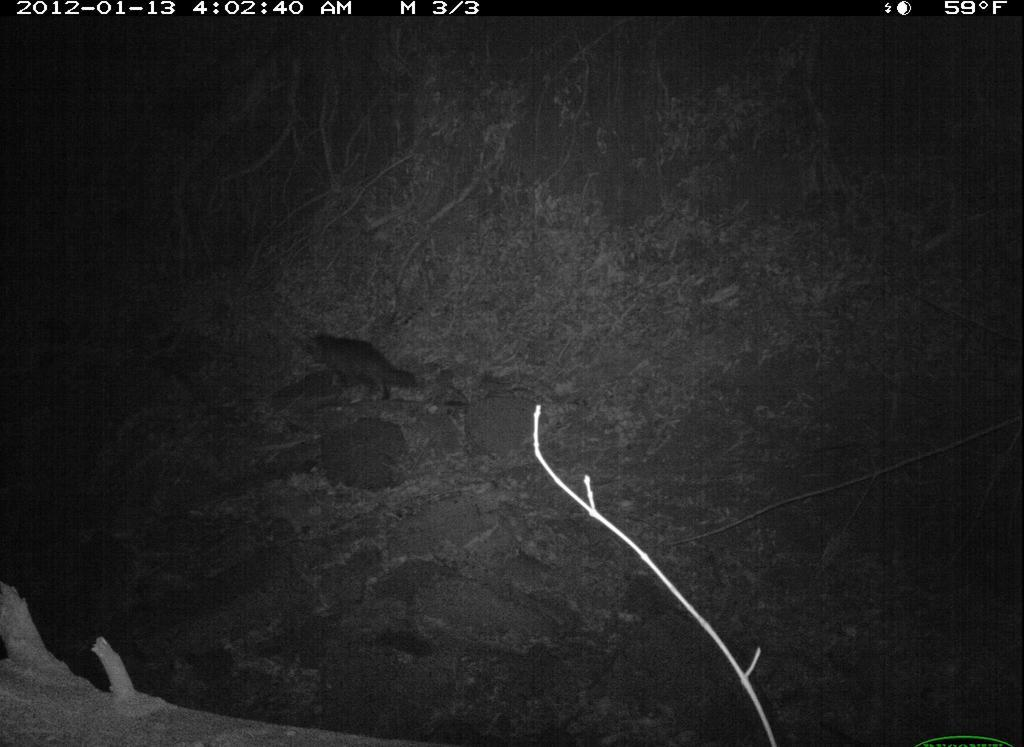cat: (287, 317, 454, 419)
